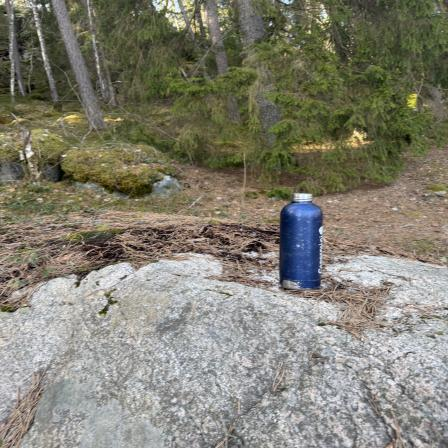blue_bottle: (282, 191, 328, 291)
